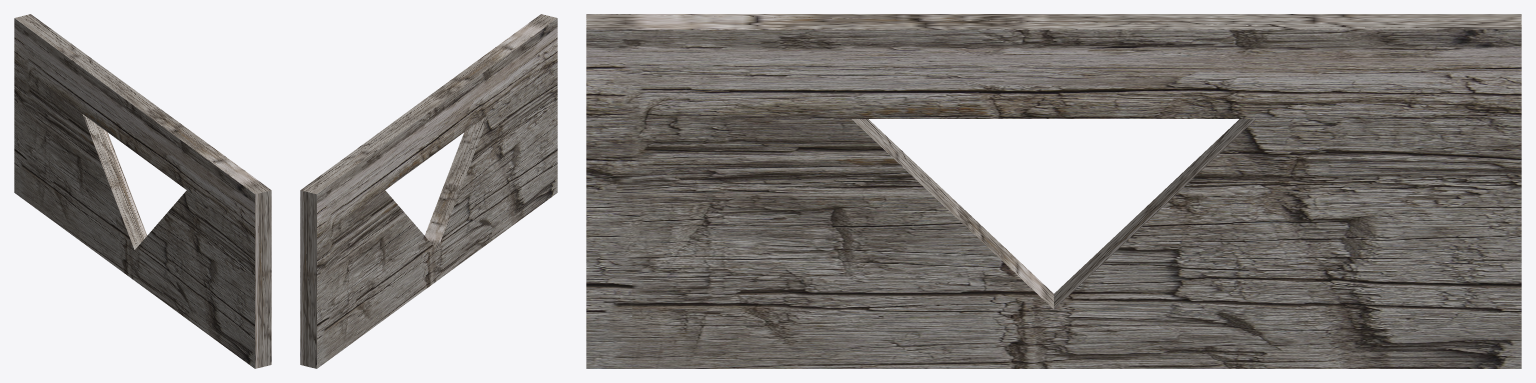
Rendered from BoardDownStair.fbx.
3 views of the same model, side by side, from view 1: azimuth 30°, elevation 25°; view 2: azimuth 150°, elevation 25°; view 3: azimuth 270°, elevation 25° (orthographic). The views are drawn at different scales.
Parts seen in each view (by area): view 1: BoardDownStair; view 2: BoardDownStair; view 3: BoardDownStair.
Part boxes in pixels (box(x1,y1,x2,y2)): BoardDownStair: box(14, 14, 271, 368); BoardDownStair: box(300, 14, 557, 368); BoardDownStair: box(586, 14, 1521, 368).
Bounding box in the file's own units: 20 × 200 × 500.
